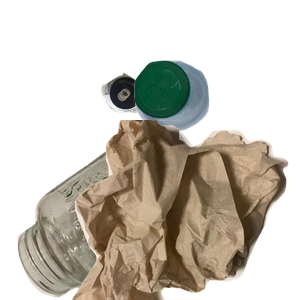glass: (15, 126, 229, 300)
metal: (99, 70, 236, 176)
plastic: (132, 58, 300, 182)
trash: (70, 120, 300, 300)
